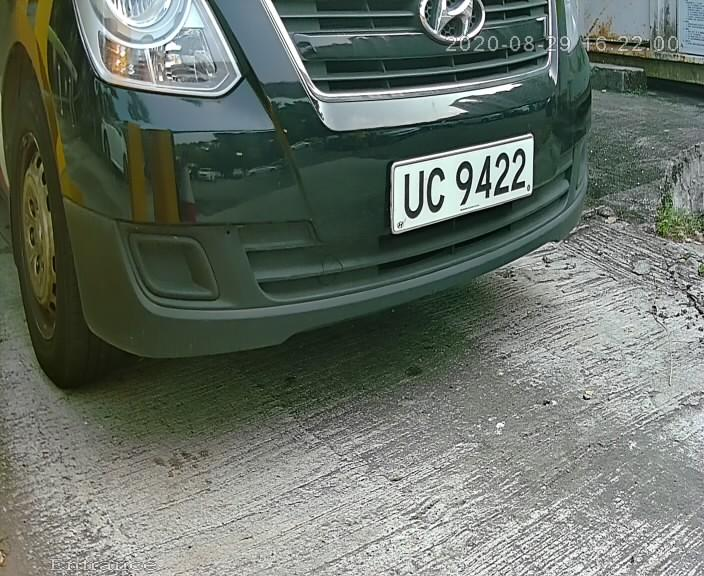License Plate: (381, 127, 547, 240)
